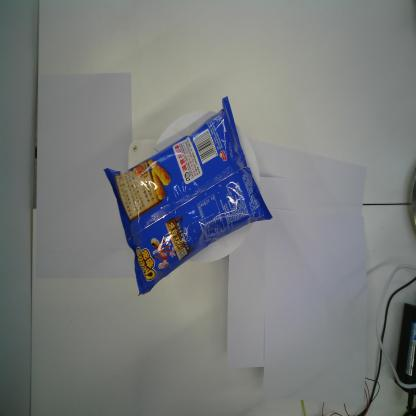Puffed Food: (104, 96, 273, 296)
